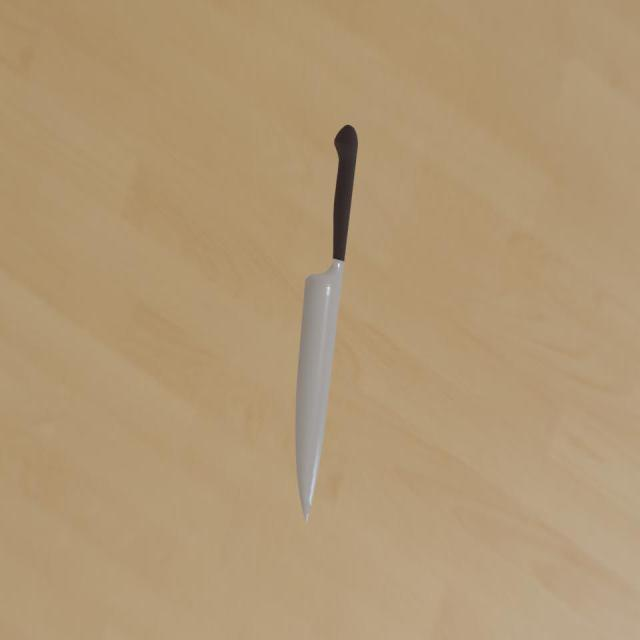knife: (332, 125, 358, 262)
